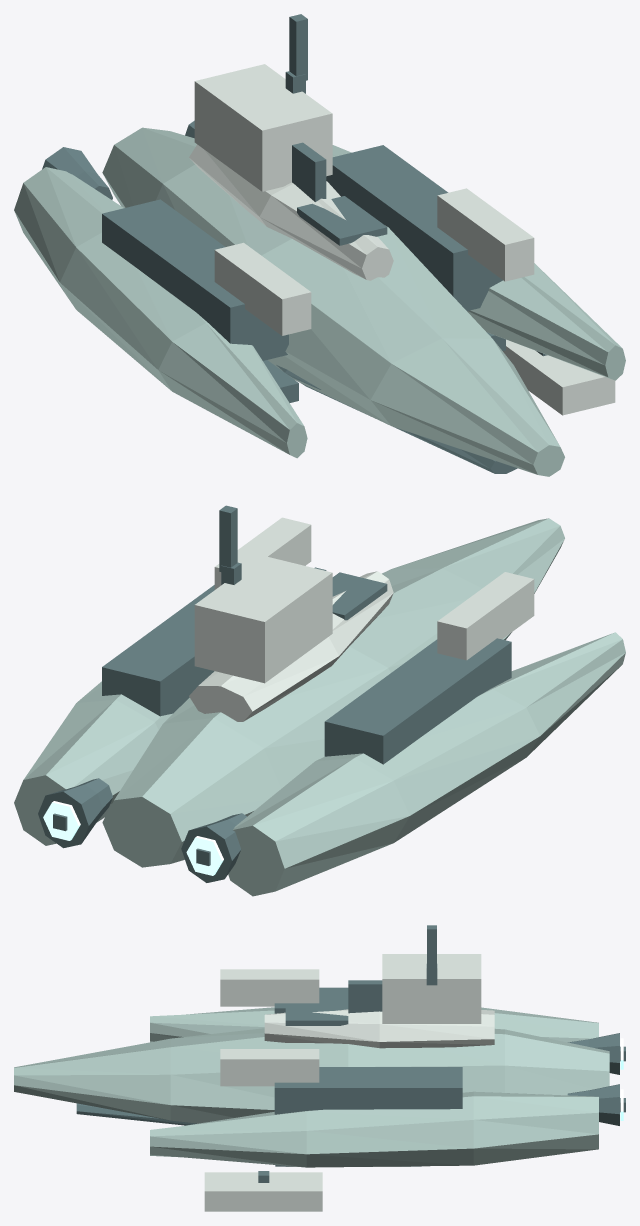
The picture shows the model from 3 angles, top to bottom: view 1: azimuth 30°, elevation 25°; view 2: azimuth 150°, elevation 25°; view 3: azimuth 270°, elevation 25°; orthographic projection. The views are drawn at different scales.
Size of the model in its own units: 13.23 by 10.13 by 24.75.
